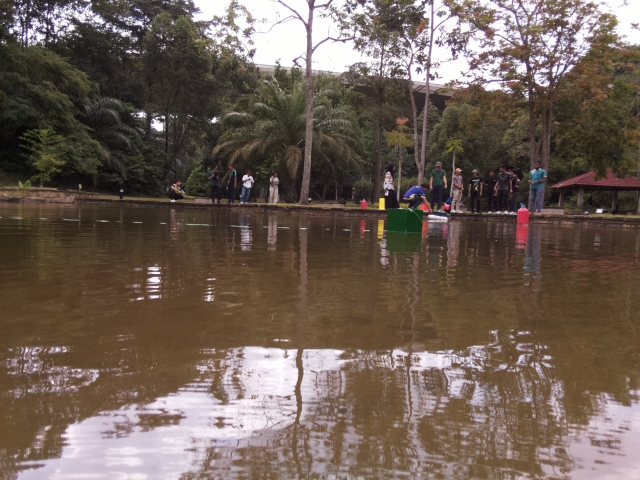obstacle: (386, 208, 423, 235)
